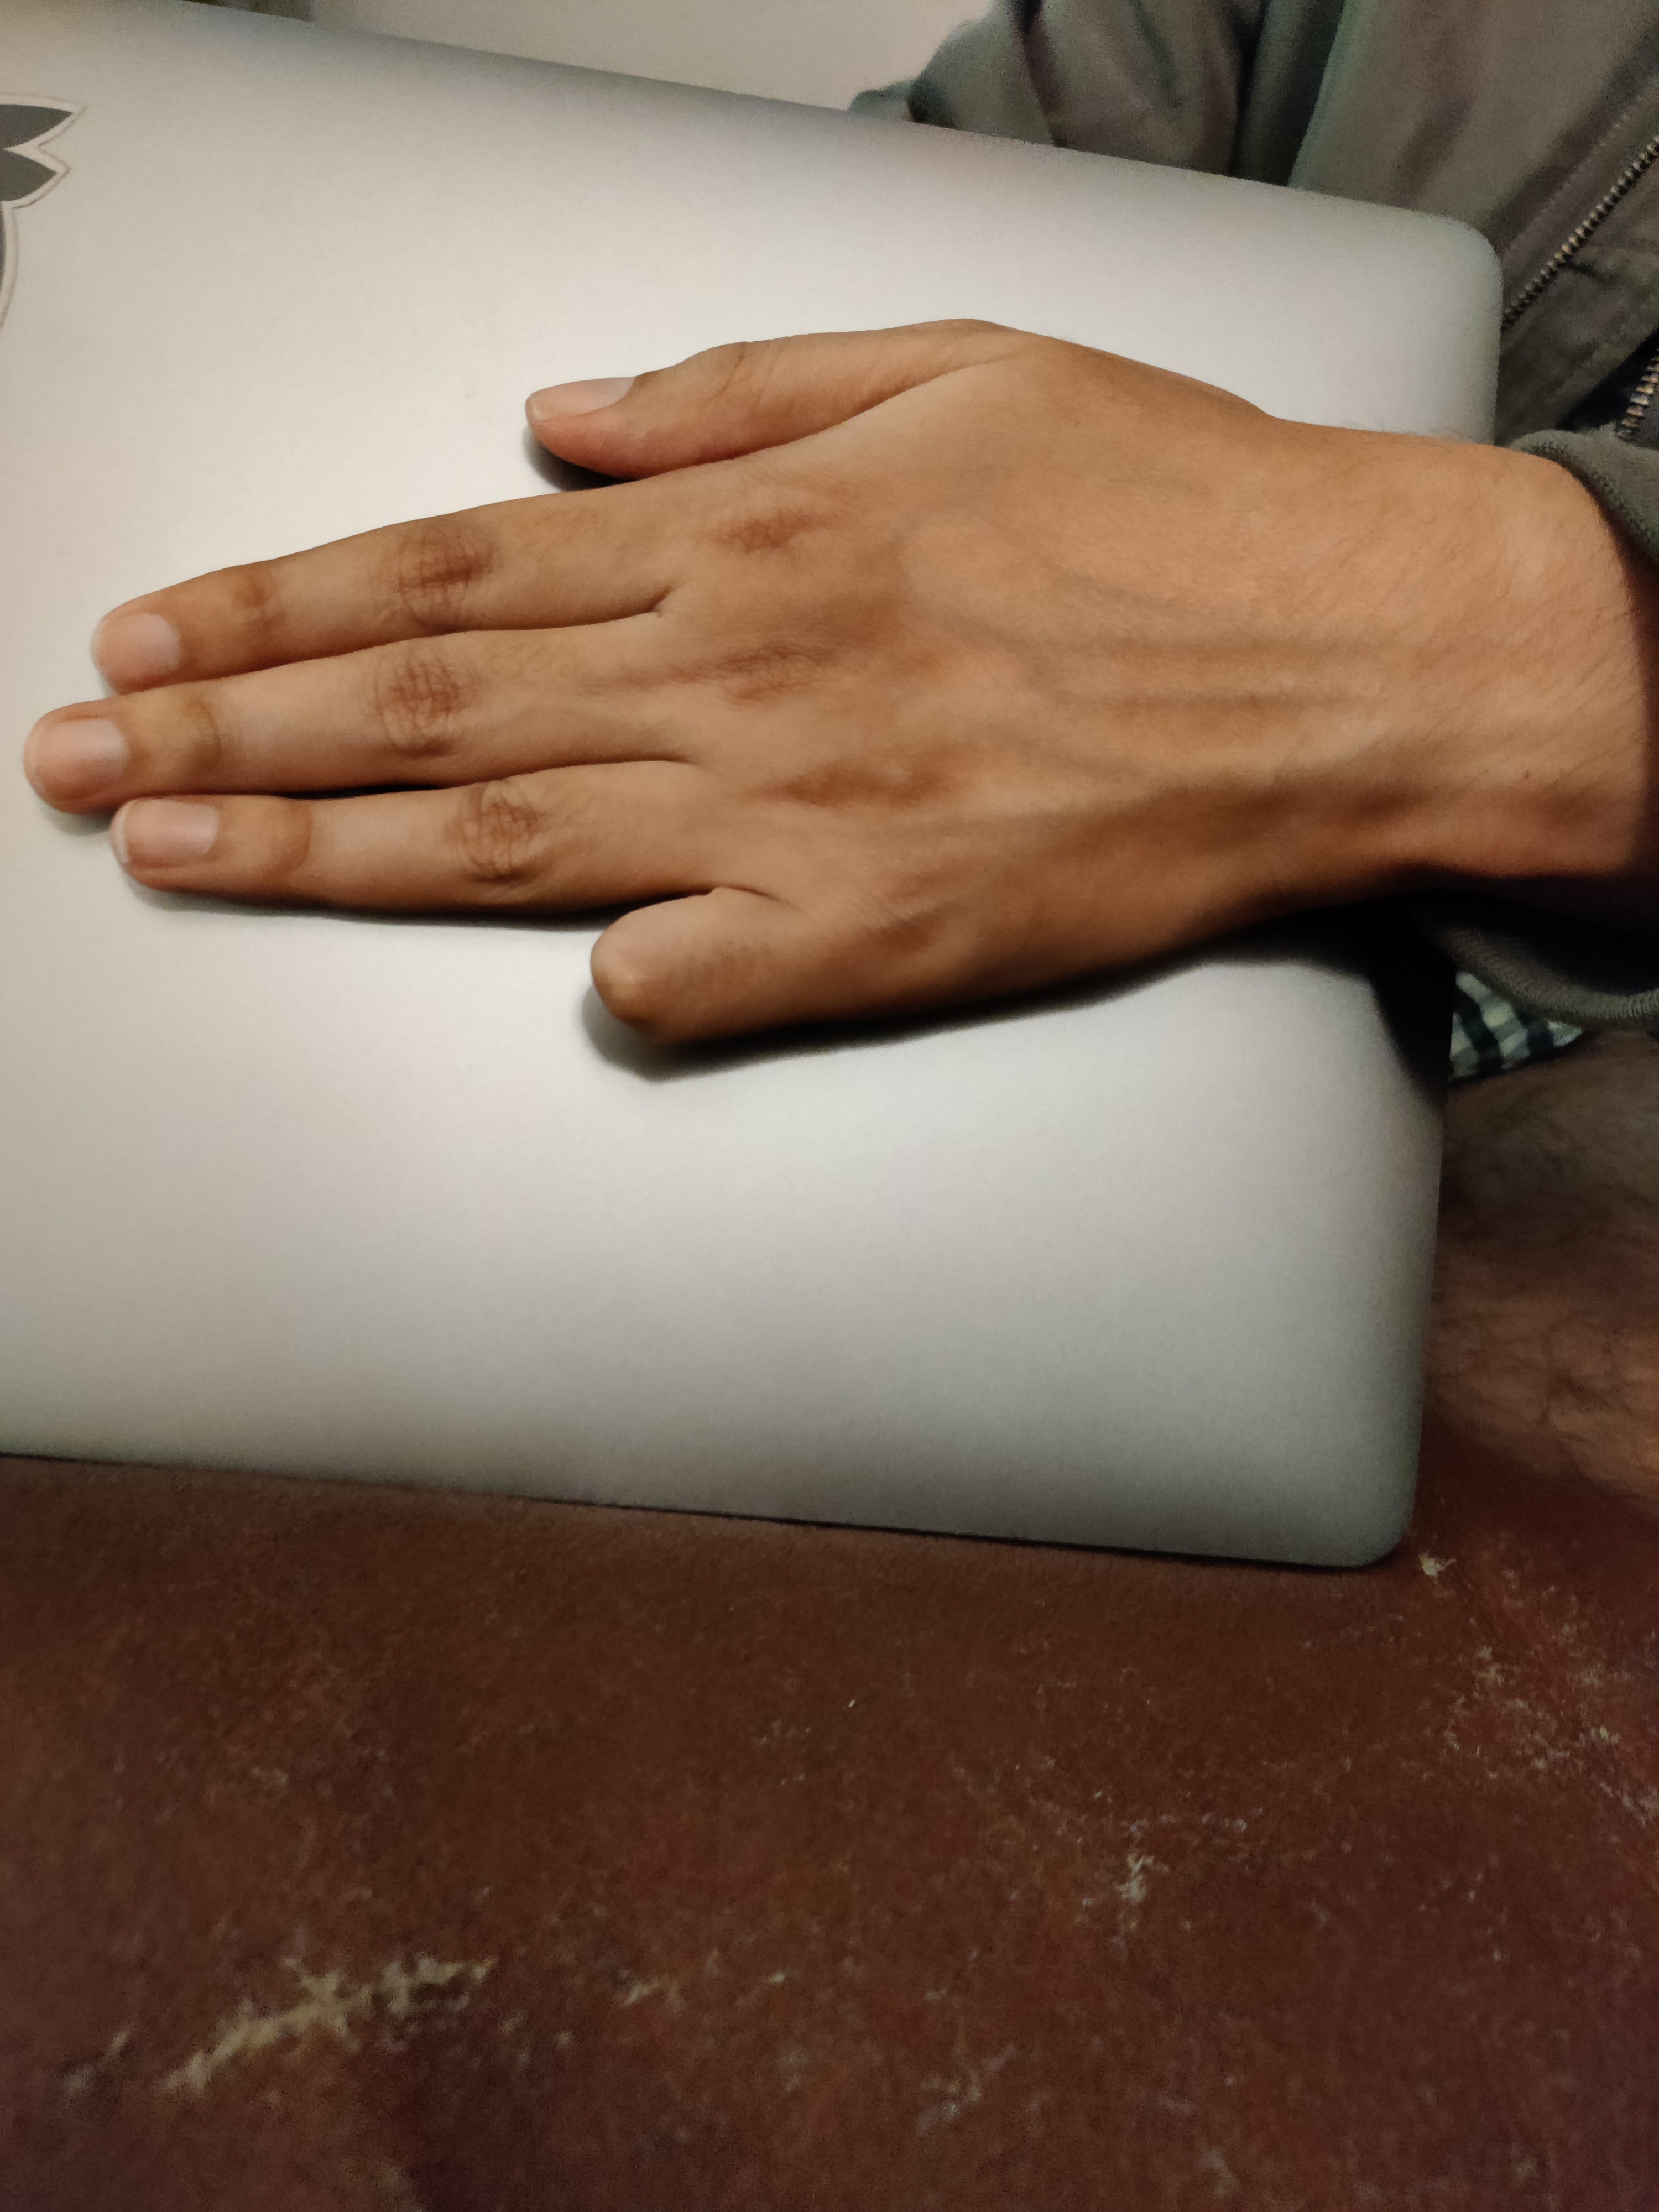right: (16, 284, 1629, 1183)
